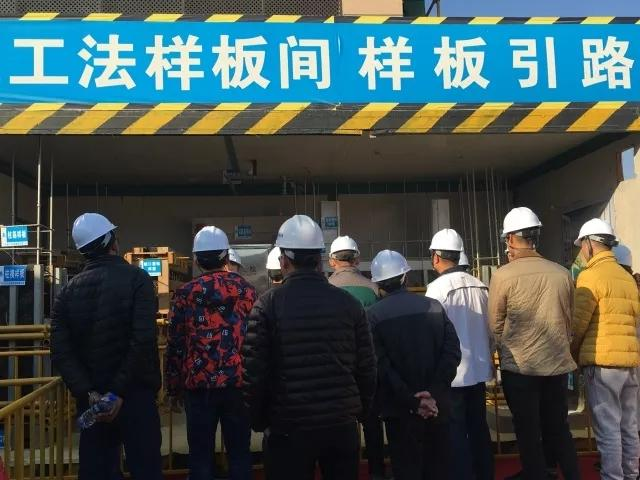helmet: (276, 216, 327, 251), (71, 215, 116, 252), (370, 251, 413, 287), (501, 207, 544, 236), (573, 221, 615, 245), (194, 229, 231, 254), (431, 230, 466, 255), (331, 236, 363, 259), (615, 246, 635, 267), (227, 250, 246, 269)
